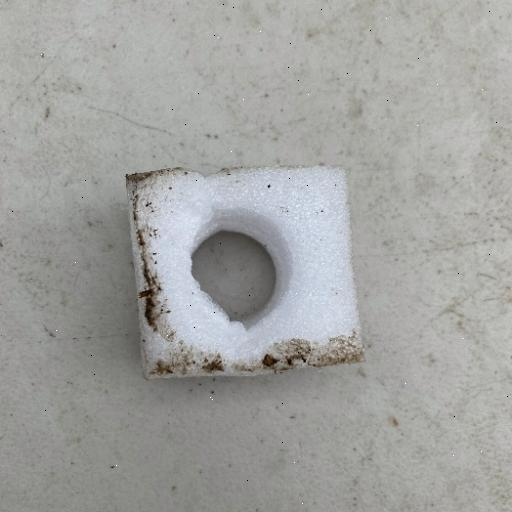Plastic: (122, 161, 368, 381)
